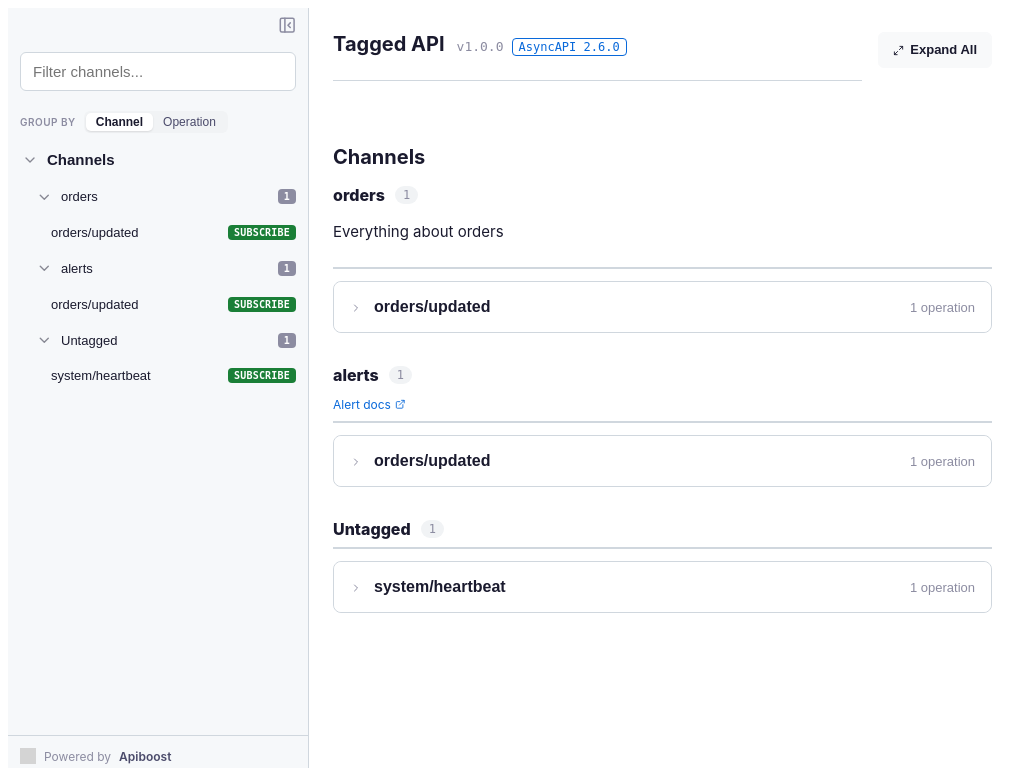
Scenario: AsyncApiSpec tag grouping › filters the sidebar, not just the main content
The image size is (1024, 768).
Type "heartbeat" into the field with placeholder "Filter channels..." at [158, 71], box [20,52,296,91]
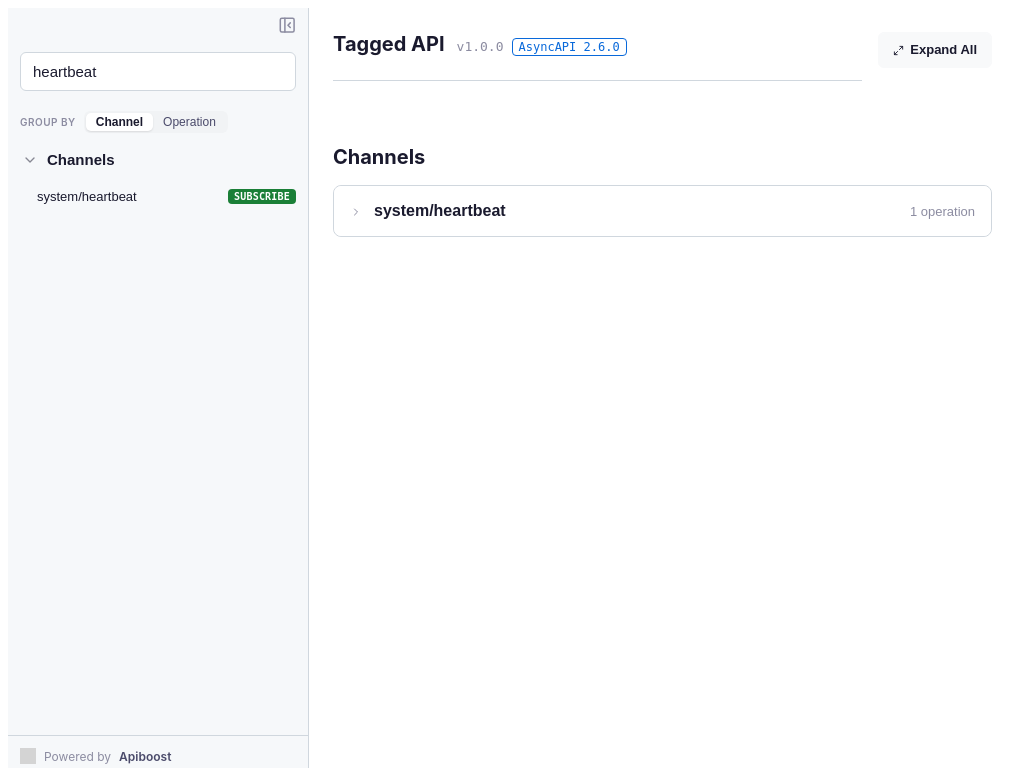
Expected: the text "system/heartbeat" below "Group by" is shown, [37,189,137,204]
Now the button "orders/updated" is gone
